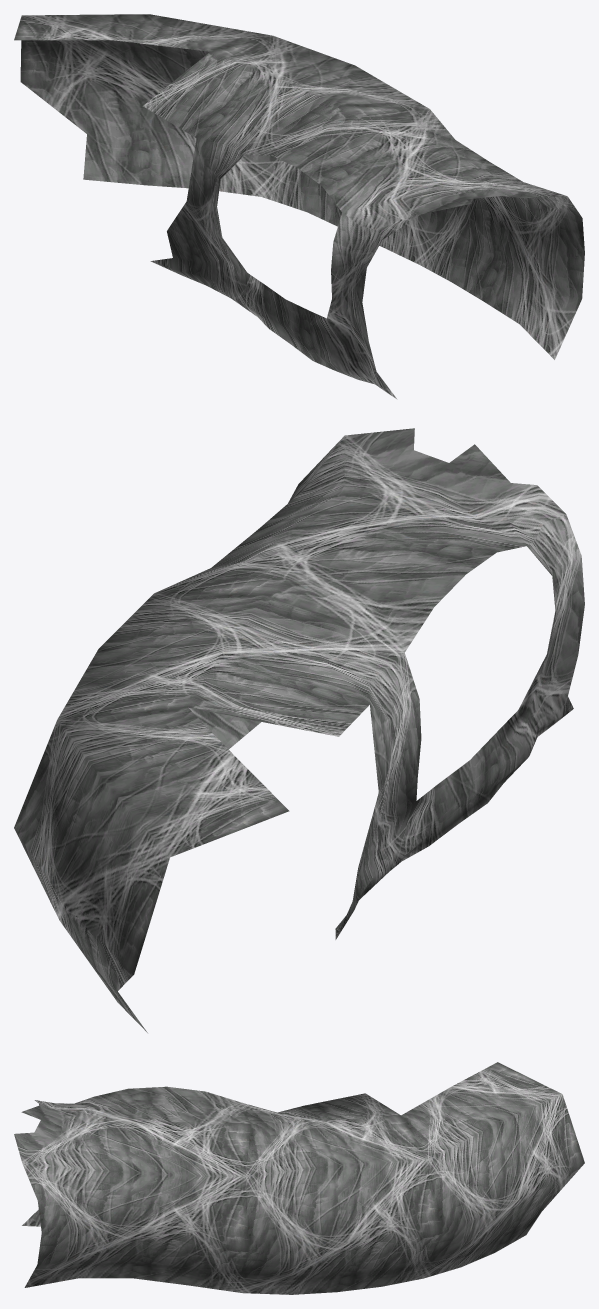
The model's file is SWORDLIGHT20_PS-AREA01_27.fbx.
3 renders of one model, top to bottom at view 1: azimuth 30°, elevation 25°; view 2: azimuth 150°, elevation 25°; view 3: azimuth 270°, elevation 25°, orthographic. The views are drawn at different scales.
Visible parts, largest first — view 1: SWORDLIGHT20_PS-AREA01_27; view 2: SWORDLIGHT20_PS-AREA01_27; view 3: SWORDLIGHT20_PS-AREA01_27.
Boxes of the visible parts, x1=… form: SWORDLIGHT20_PS-AREA01_27: x1=14, y1=14, x2=584, y2=399; SWORDLIGHT20_PS-AREA01_27: x1=14, y1=428, x2=584, y2=1032; SWORDLIGHT20_PS-AREA01_27: x1=14, y1=1062, x2=584, y2=1294.
Size of the model in its own units: 93611 by 60487 by 202327.
Materials: 1 (1 with a texture image).
